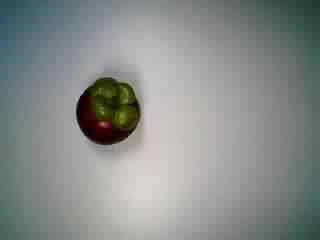mangosteen: (69, 73, 143, 145)
